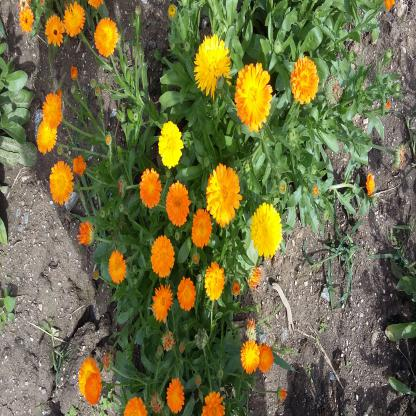marigold: (236, 63, 271, 131), (195, 35, 232, 93), (207, 164, 240, 223), (252, 203, 282, 255), (157, 121, 184, 168), (291, 59, 317, 104), (49, 164, 75, 205), (166, 186, 190, 228), (151, 237, 174, 276), (94, 18, 118, 55), (140, 169, 162, 205), (192, 210, 212, 249), (204, 264, 225, 298), (43, 93, 63, 128), (165, 376, 185, 410), (151, 287, 172, 319), (37, 121, 57, 154), (64, 2, 83, 36), (202, 389, 224, 416), (178, 279, 196, 310), (108, 251, 125, 282), (46, 16, 64, 45), (121, 396, 147, 416), (84, 372, 100, 404), (242, 342, 258, 373), (258, 340, 272, 374), (18, 7, 33, 29), (366, 175, 374, 196)
